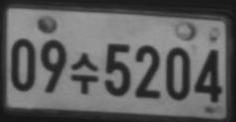0: (164, 46, 191, 100), (10, 38, 36, 92)
2: (135, 45, 160, 98)
4: (194, 48, 222, 103)
5: (104, 42, 131, 96)
9: (39, 38, 67, 93)
수: (70, 52, 99, 94)
